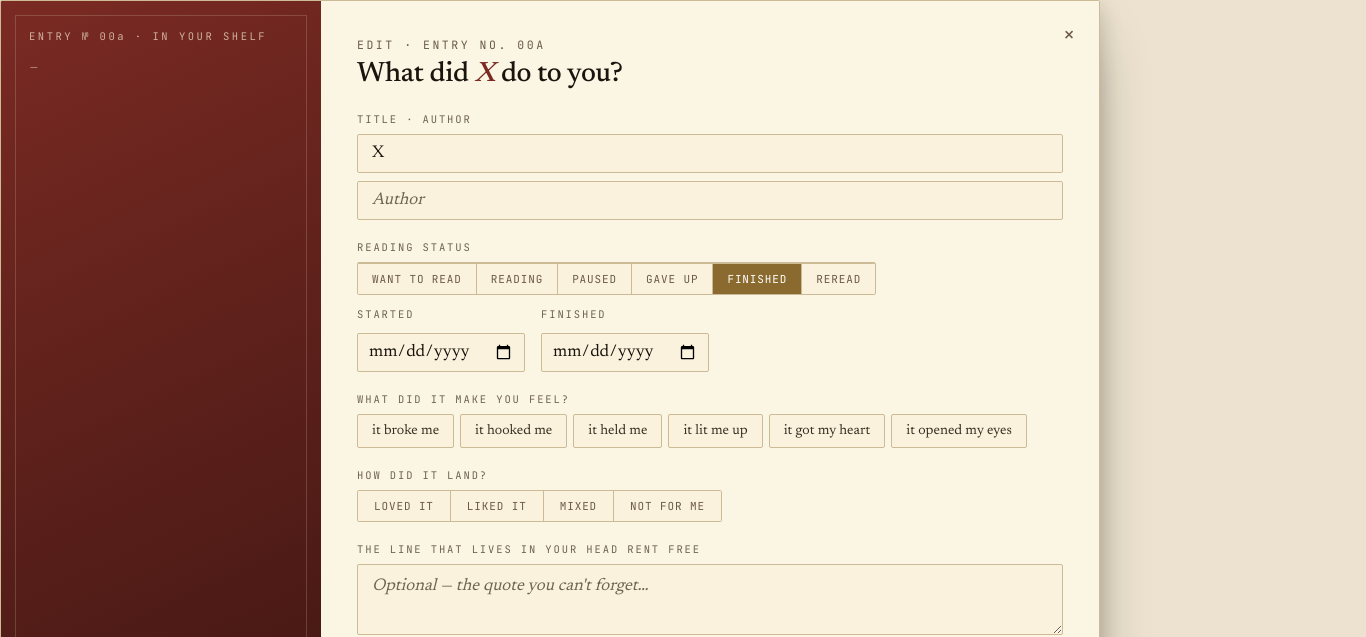
EntryModal new vocabulary + per-emotion intensity [Part A/B/C] › asks how far in only for an open book, and saves null until answered
This screenshot has width=1366, height=637.
Check: the field labelled "roughly how far in" is not shown
Click the radio button labelled "reading" at (516, 278), box x1=476 y1=263 x2=557 y2=294
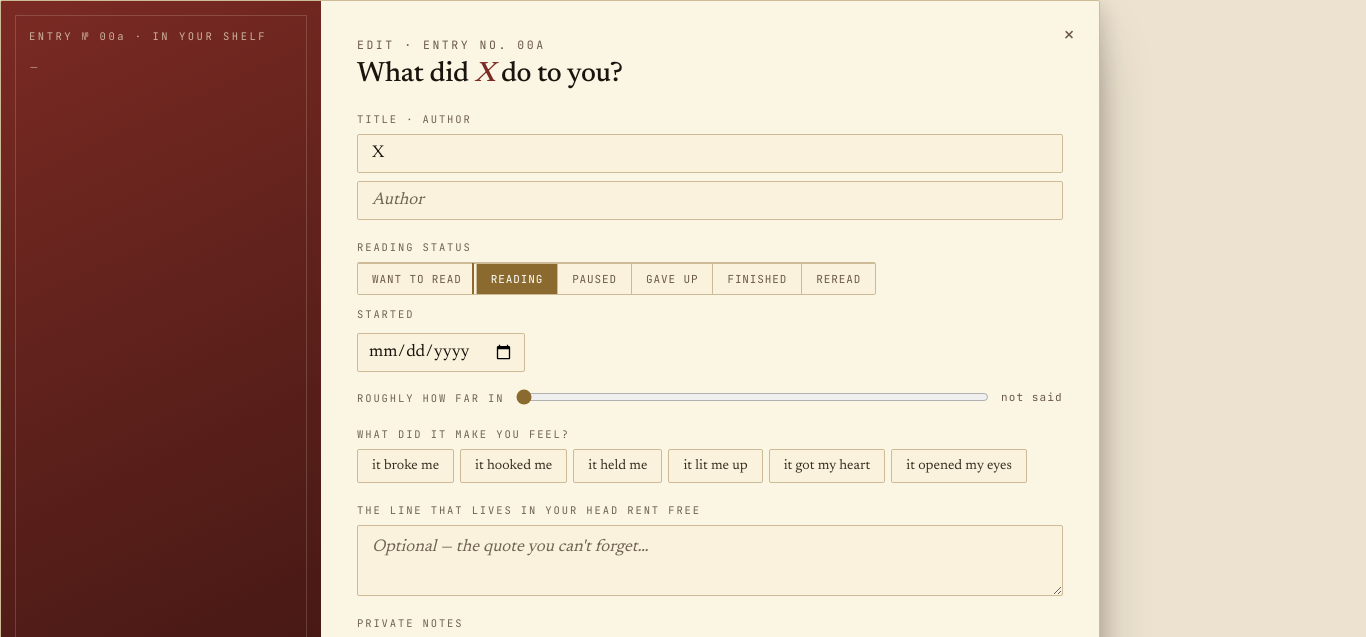
Check: the text "not said" is shown, box x1=1001 y1=390 x2=1063 y2=404
